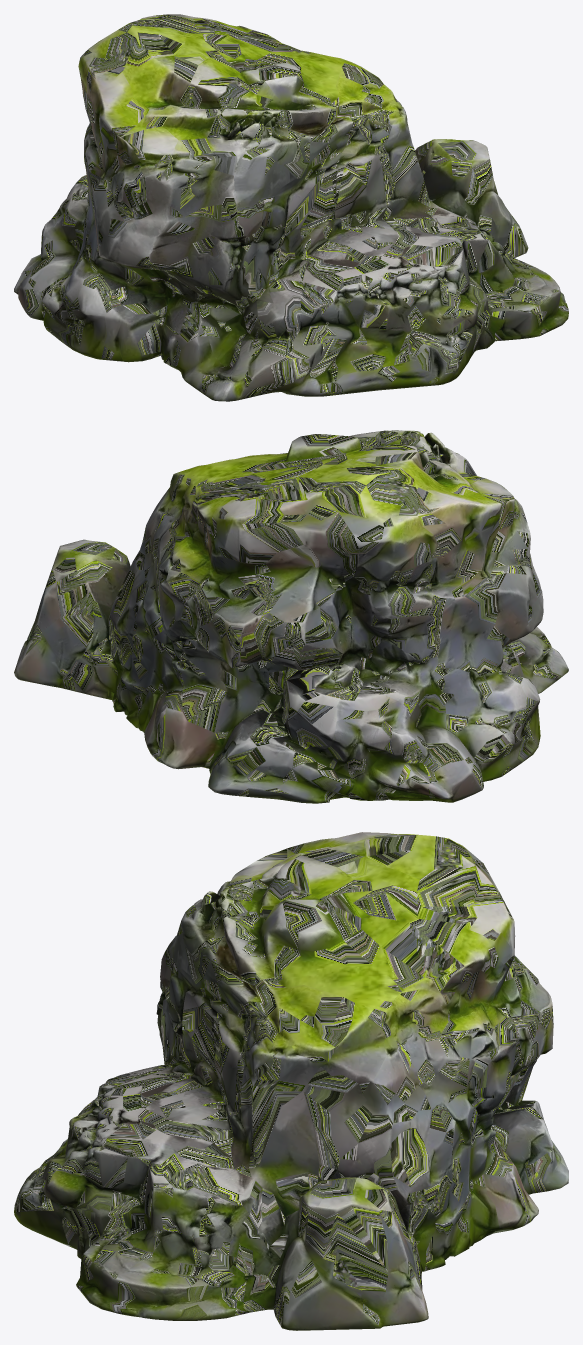
Rendered from rock.glb.
The picture shows the model from 3 angles, top to bottom: view 1: azimuth 30°, elevation 25°; view 2: azimuth 150°, elevation 25°; view 3: azimuth 270°, elevation 25°; orthographic projection. The views are drawn at different scales.
Visible parts, largest first — view 1: rock; view 2: rock; view 3: rock.
Boxes of the visible parts, bbox=[...] form: rock: bbox=[14, 14, 568, 401]; rock: bbox=[14, 430, 568, 803]; rock: bbox=[14, 832, 568, 1330].
Size of the model in its own units: 1.9 by 1.06 by 1.74.
1 material, 1 textured.
